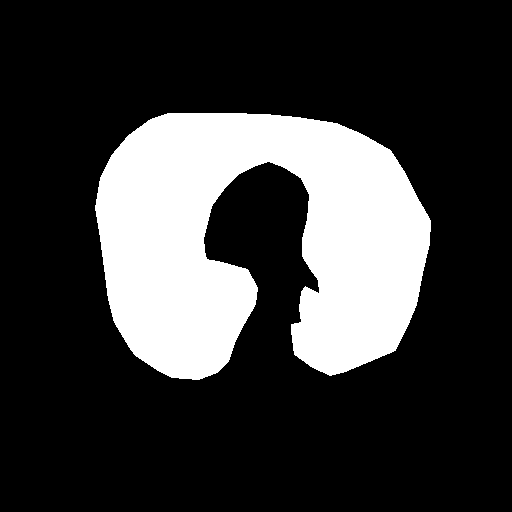Lungs: (97, 114, 427, 376)
